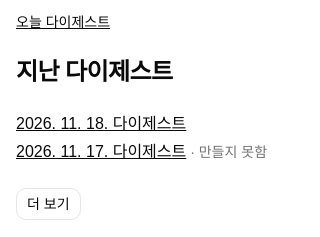
Scenario: DigestDatesPage › 다이제스트가 있는 날짜를 늦은 순으로 보이고 내용이 없는 날짜에만 상태를 붙이며 더 보기로 다음 쪽을 잇는다
This screenshot has width=320, height=237.
expect the list item "2026. 11. 18. 다이제스트" is shown: met, box [16, 115, 186, 132]
expect the list item "2026. 11. 17. 다이제스트" shows "만들지 못함": met, box [199, 144, 267, 160]
Click the button "더 보기" at (48, 204), box [16, 188, 80, 220]
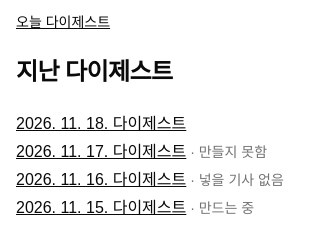
expect the link "2026. 11. 16. 다이제스트" is shown: met, box [16, 171, 186, 188]
expect the list items read "2026. 11. 18. 다이제스트", "2026. 11. 17. 다이제스트 · 만들지 못함", "2026. 11. 16. 다이제스트 · 넣을 기사 없음", "2026. 11. 15. 다이제스트 · 만드는 중", in this order: met, box [16, 115, 186, 132]; [16, 143, 267, 160]; [16, 171, 284, 188]; [16, 199, 254, 216]
expect the button "더 보기" is gone: met
